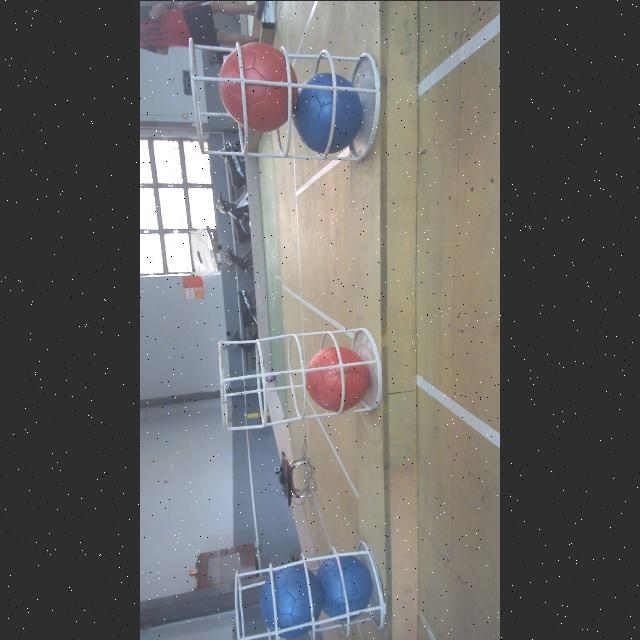B: (296, 70, 362, 154), (260, 562, 322, 638)
R: (219, 42, 299, 130), (308, 345, 370, 413)
